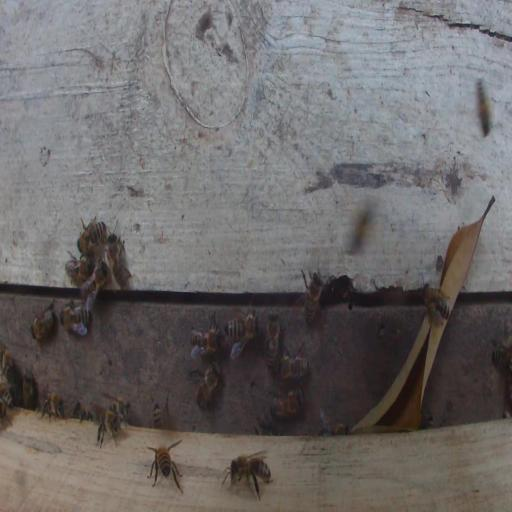bee: (225, 450, 273, 499), (147, 440, 183, 493), (226, 309, 259, 360), (108, 232, 132, 288), (190, 315, 223, 355), (301, 268, 324, 325), (422, 283, 452, 326), (78, 216, 109, 256), (196, 361, 221, 410), (81, 261, 109, 302), (59, 300, 91, 335), (350, 208, 376, 251), (31, 298, 55, 342), (264, 311, 281, 373), (271, 388, 303, 420), (476, 77, 493, 137), (319, 407, 350, 435), (325, 274, 354, 303), (64, 256, 94, 284), (92, 405, 119, 436), (279, 351, 307, 380), (40, 392, 65, 422), (491, 340, 511, 367), (22, 371, 36, 409), (109, 398, 131, 421), (1, 344, 14, 375), (1, 387, 14, 417), (152, 404, 164, 428)
